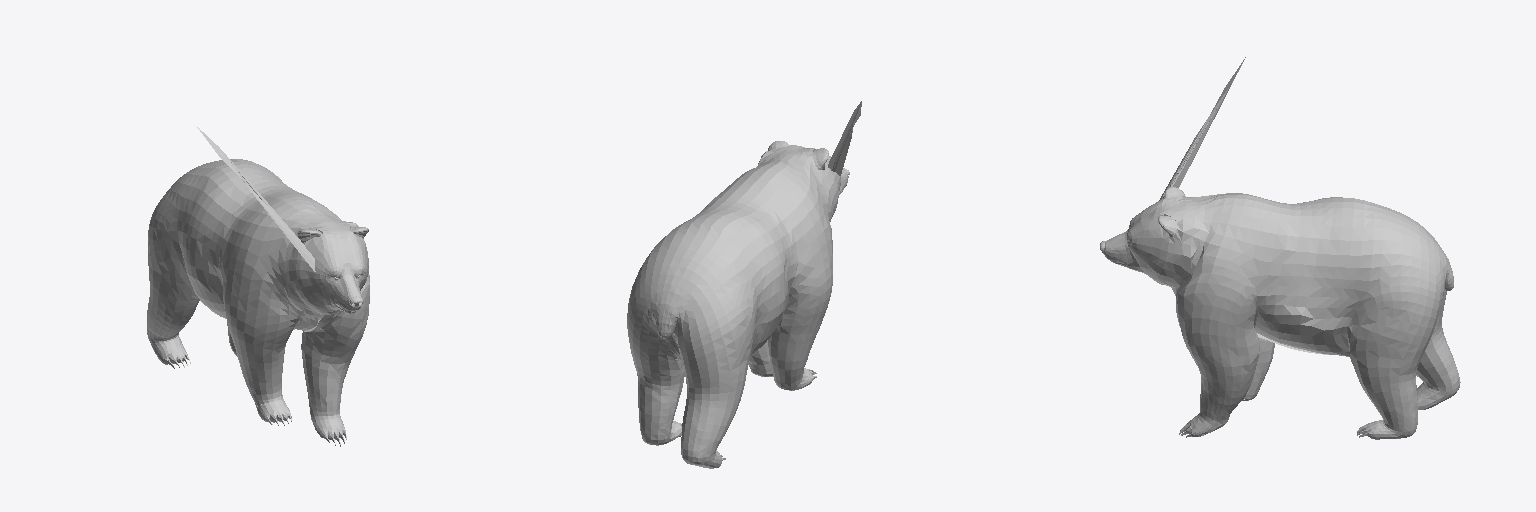
File: Bear0137.obj
3 views of the same model, side by side, from view 1: azimuth 30°, elevation 25°; view 2: azimuth 150°, elevation 25°; view 3: azimuth 270°, elevation 25° (orthographic).
Parts seen in each view (by area): view 1: Object_237; view 2: Object_237; view 3: Object_237.
Boxes of the visible parts, x1,y1,x2,y2 form: Object_237: [147, 127, 369, 446]; Object_237: [627, 101, 861, 468]; Object_237: [1100, 57, 1460, 439].
Size of the model in its own units: 2.43 by 4.87 by 4.91.